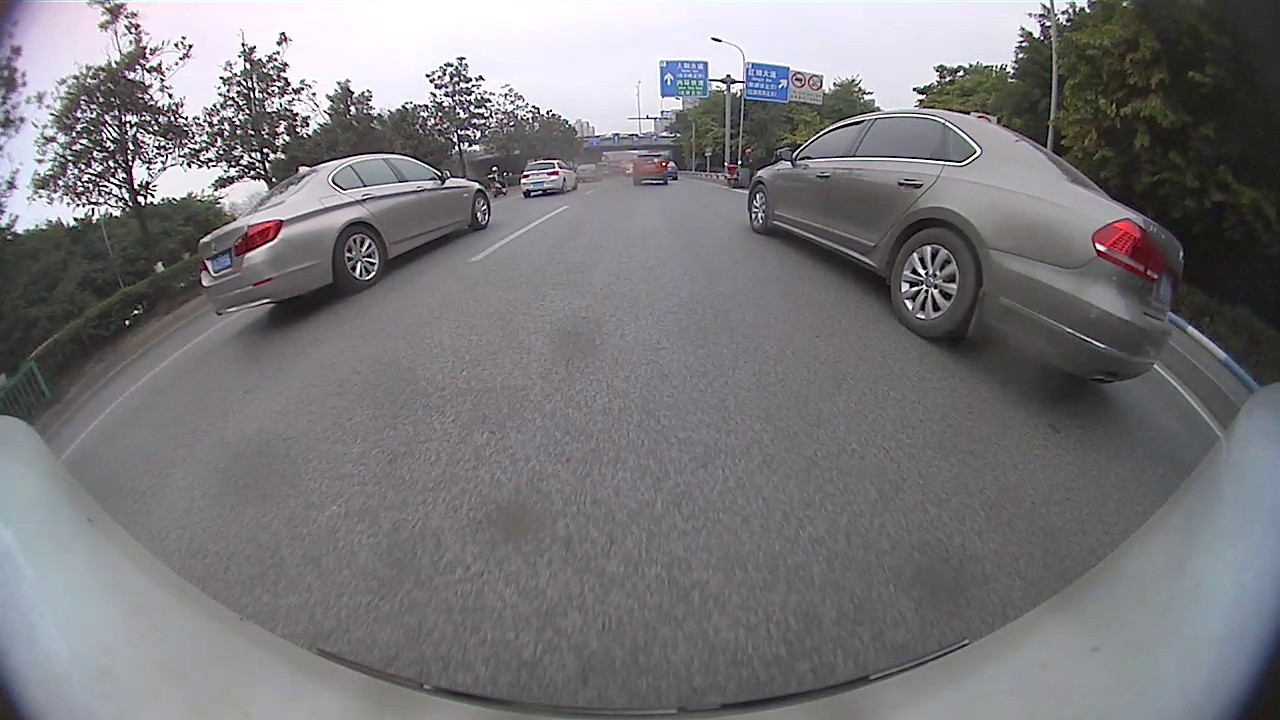car: (745, 106, 1189, 387), (194, 151, 494, 319), (518, 158, 581, 198), (630, 151, 671, 187)
front: (746, 186, 771, 234), (470, 192, 492, 231)
person: (744, 146, 755, 185)
rear: (888, 227, 978, 343), (332, 225, 387, 291)
rider: (487, 164, 510, 199), (723, 158, 743, 190)
